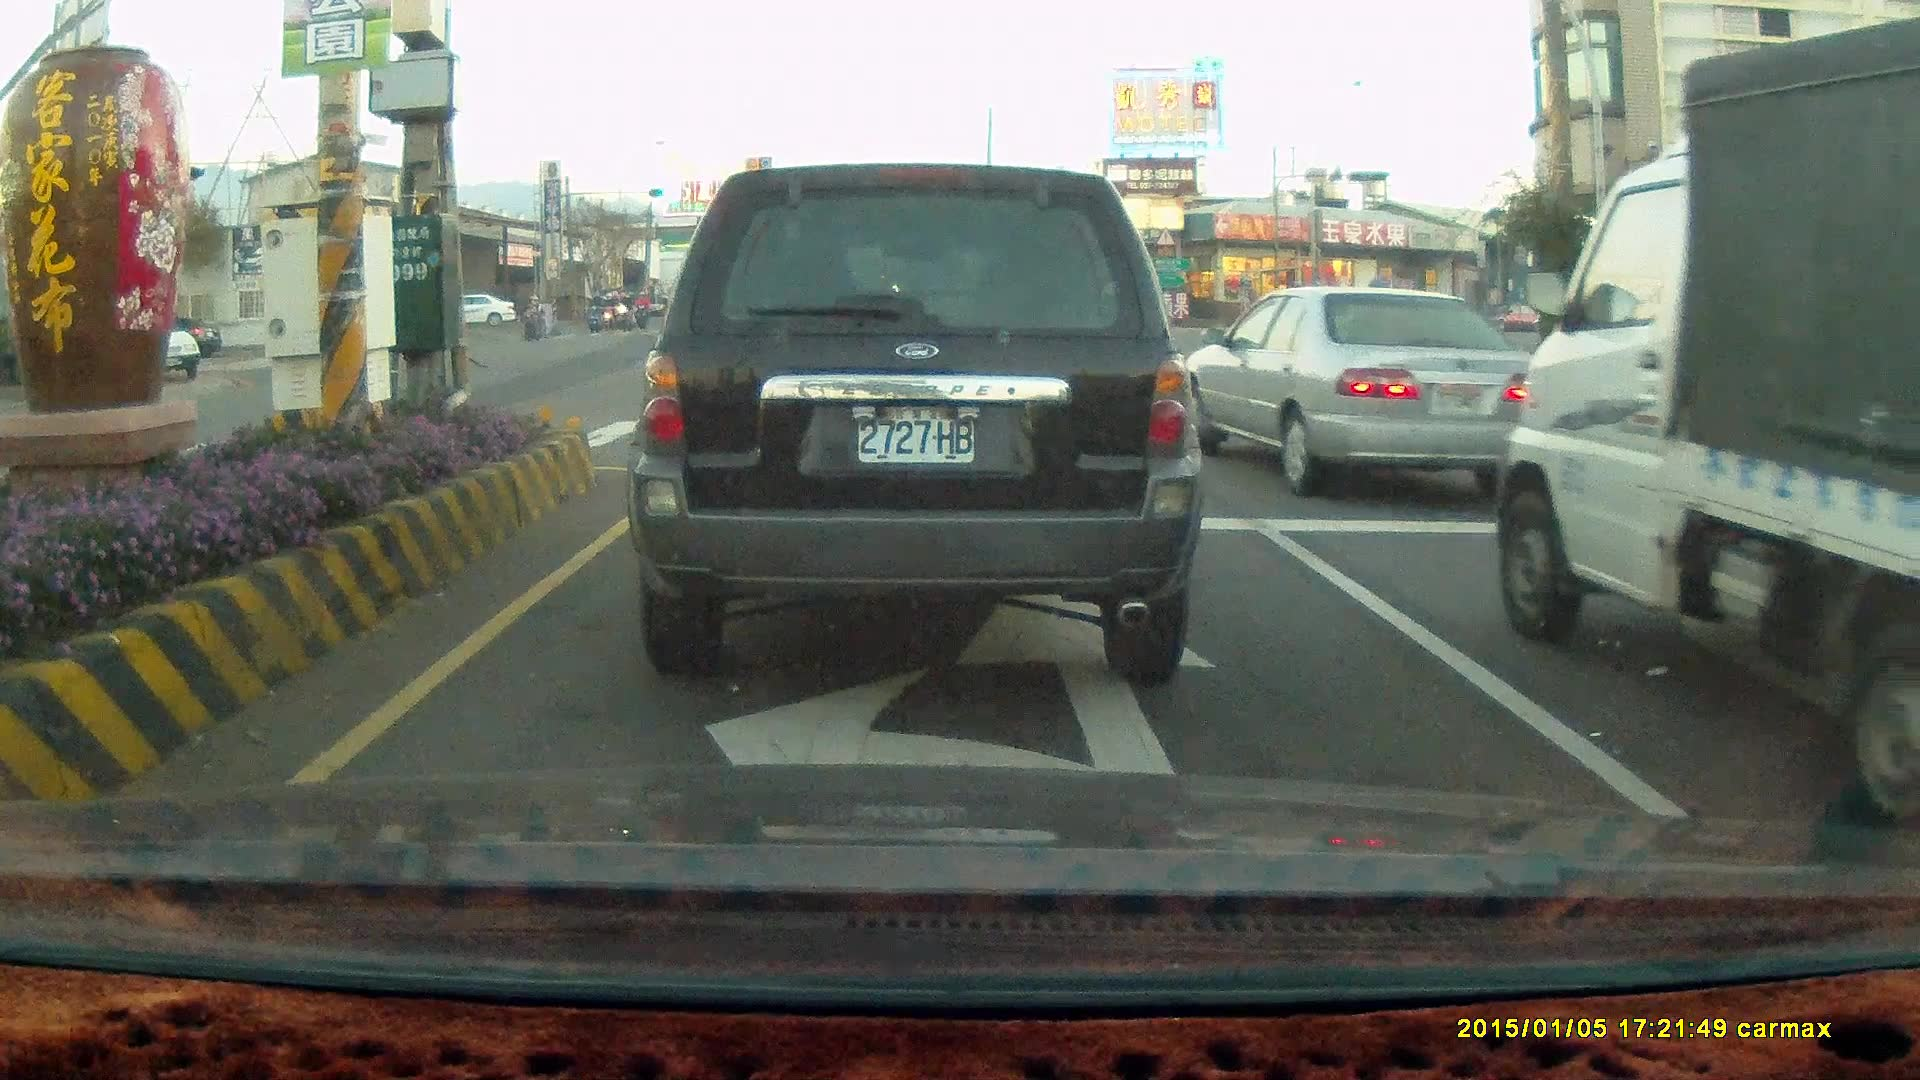rider: (514, 292, 545, 340), (616, 289, 641, 335), (584, 290, 605, 334), (588, 294, 610, 333)
vehicle: (1494, 11, 1920, 842), (622, 161, 1202, 684), (1177, 282, 1547, 496), (1164, 287, 1529, 495), (1678, 282, 1835, 371), (448, 296, 517, 328)
